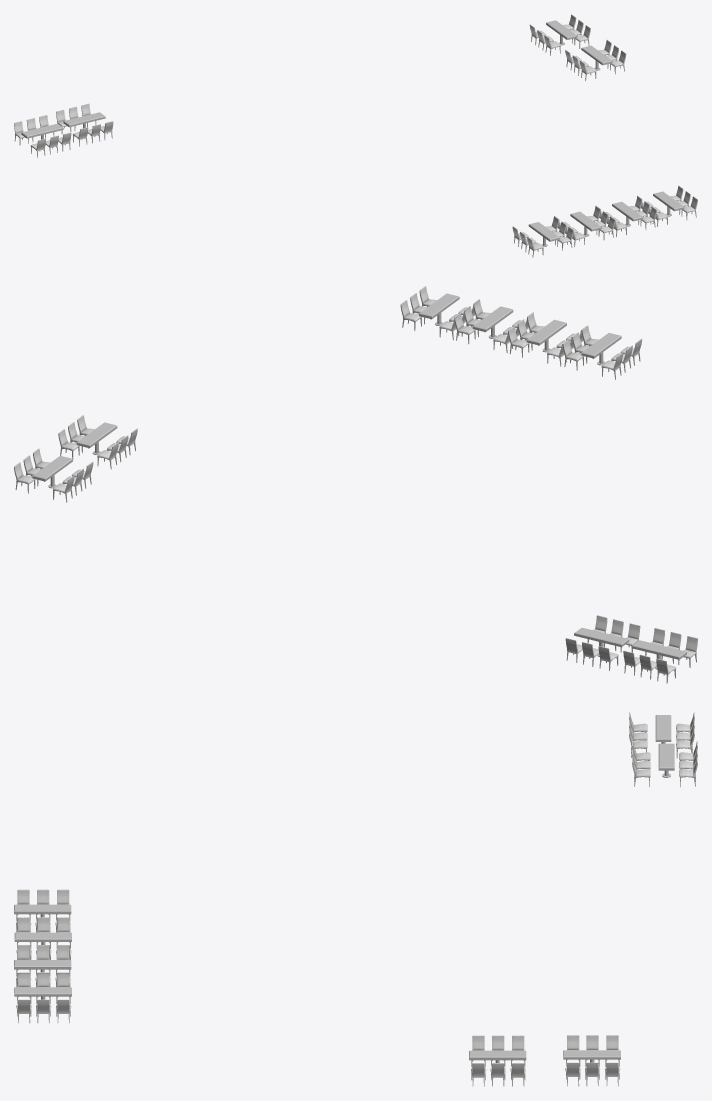
The model's file is table-6people.fbx.
The picture shows the model from 3 angles, top to bottom: view 1: azimuth 30°, elevation 25°; view 2: azimuth 150°, elevation 25°; view 3: azimuth 270°, elevation 25°; orthographic projection. The views are drawn at different scales.
Parts seen in each view (by area): view 1: no part large enough to name; view 2: no part large enough to name; view 3: table_chair_Colonade:table, table_chair_Colonade7:table, table_chair_Colonade6:table, table_chair_Colonade3:table, table_chair_Colonade1:table, table_chair_Colonade2:table.
Part boxes in pixels (box(x1,y1,x2,y2)): table_chair_Colonade:table: box(14, 904, 71, 917); table_chair_Colonade7:table: box(469, 1050, 526, 1062); table_chair_Colonade6:table: box(563, 1050, 620, 1062); table_chair_Colonade3:table: box(14, 987, 71, 999); table_chair_Colonade1:table: box(14, 932, 71, 944); table_chair_Colonade2:table: box(14, 960, 71, 972).
Bounding box in the file's own units: 6247 × 199 × 5126.
